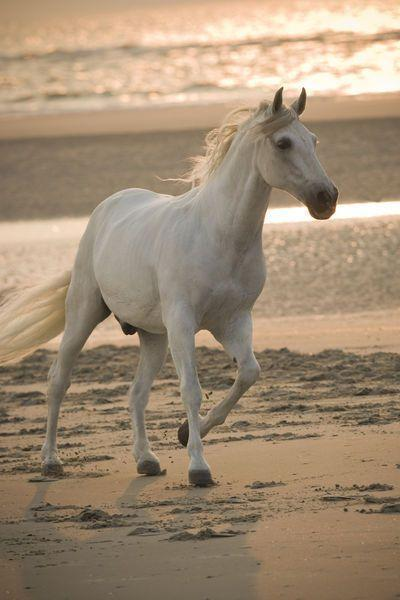horse: (0, 85, 339, 487)
